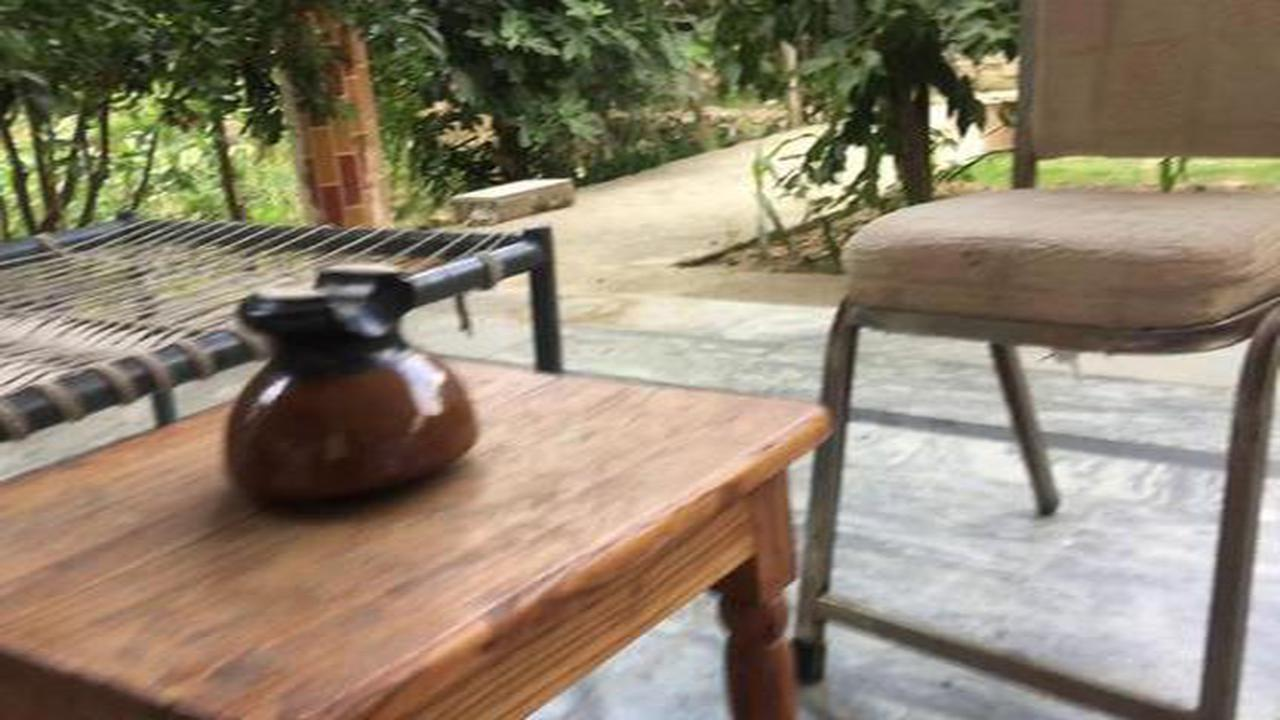insulator_pin: (191, 248, 502, 525)
